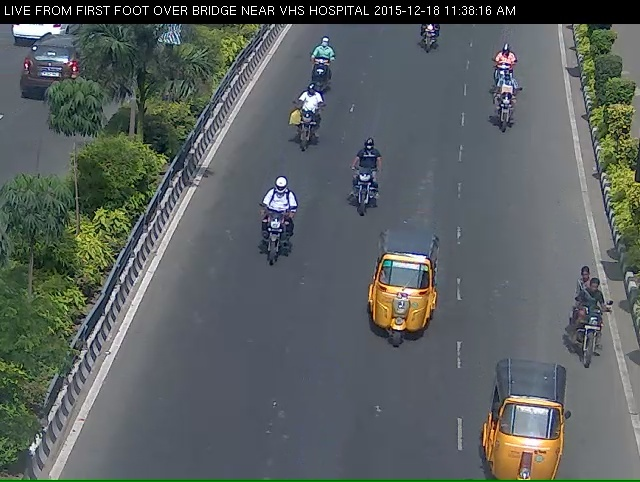Car: (360, 233, 450, 376), (482, 372, 576, 482)
Person: (574, 295, 621, 400), (252, 192, 296, 284), (344, 149, 380, 231), (297, 50, 345, 100), (287, 106, 319, 174), (482, 55, 517, 102), (413, 20, 444, 69), (499, 92, 517, 153)
